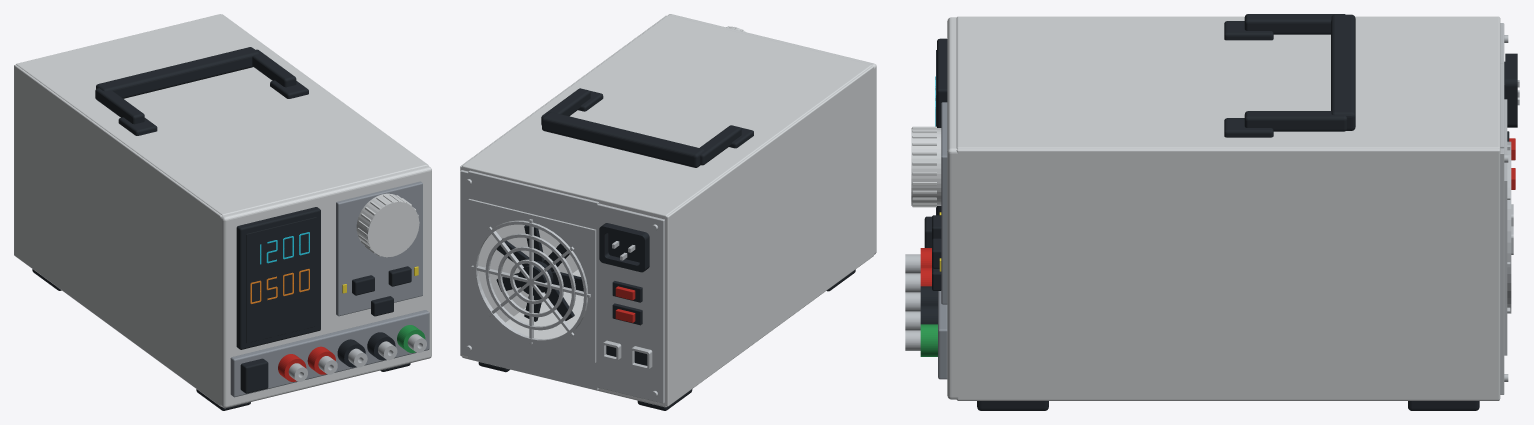
File: full.glb
The picture shows the model from 3 angles, left to right: view 1: azimuth 30°, elevation 25°; view 2: azimuth 150°, elevation 25°; view 3: azimuth 270°, elevation 25°; orthographic projection. The views are drawn at different scales.
Visible parts, largest first — view 1: Case side -0.0753, Case roof, Front fascia, Recessed screen, Control recess, Lower terminal strip, Folded handle grip, Screen dark bezel, Main adjustment knob, Power rocker, Folded handle arm -0.056, Folded handle arm 0.056 (+10 smaller); view 2: Case side -0.0753, Case roof, Rear right panel, Fan outer support, Rear horizontal 0.133, Rear horizontal 0.02, Folded handle grip, Case side 0.0753, Rear left edge, Case floor, Fan grille ring 0.041, IEC inlet rim (+11 smaller); view 3: Case side 0.0753, Case roof, Front fascia, Folded handle grip, Folded handle arm 0.056, Main adjustment knob, Folded handle arm -0.056, Control recess, Rear left edge, Fan outer support, IEC inlet rim, Screen dark bezel (+7 smaller).
Boxes of the visible parts, x1,y1,x2,y2 form: Case side -0.0753: [14, 64, 221, 406]; Case roof: [16, 14, 427, 215]; Front fascia: [219, 165, 431, 408]; Recessed screen: [246, 217, 316, 343]; Control recess: [336, 181, 422, 316]; Lower terminal strip: [230, 310, 429, 397]; Folded handle grip: [96, 47, 259, 98]; Screen dark bezel: [236, 207, 320, 349]; Main adjustment knob: [356, 193, 419, 257]; Power rocker: [240, 358, 268, 393]; Folded handle arm -0.056: [95, 88, 144, 124]; Folded handle arm 0.056: [252, 49, 296, 87]; Case side -0.0753: [664, 65, 873, 406]; Case roof: [462, 15, 871, 219]; Rear right panel: [594, 203, 664, 403]; Fan outer support: [468, 199, 596, 362]; Rear horizontal 0.133: [468, 170, 598, 229]; Rear horizontal 0.02: [468, 332, 598, 390]; Folded handle grip: [542, 112, 704, 167]; Case side 0.0753: [460, 15, 666, 356]; Rear left edge: [460, 170, 472, 356]; Case floor: [462, 269, 666, 407]; Fan grille ring 0.041: [473, 220, 587, 343]; IEC inlet rim: [599, 223, 649, 272]; Case side 0.0753: [956, 149, 1500, 400]; Case roof: [956, 16, 1500, 149]; Front fascia: [947, 17, 963, 399]; Folded handle grip: [1331, 14, 1355, 130]; Folded handle arm 0.056: [1244, 111, 1347, 131]; Main adjustment knob: [911, 128, 941, 205]; Folded handle arm -0.056: [1244, 14, 1345, 34]; Control recess: [941, 102, 947, 304]; Rear left edge: [1500, 148, 1504, 394]; Fan outer support: [1504, 99, 1507, 355]; IEC inlet rim: [1505, 53, 1517, 127]; Screen dark bezel: [937, 38, 947, 215].
Size of the model in its own units: 0.1546 by 0.155 by 0.2995.
